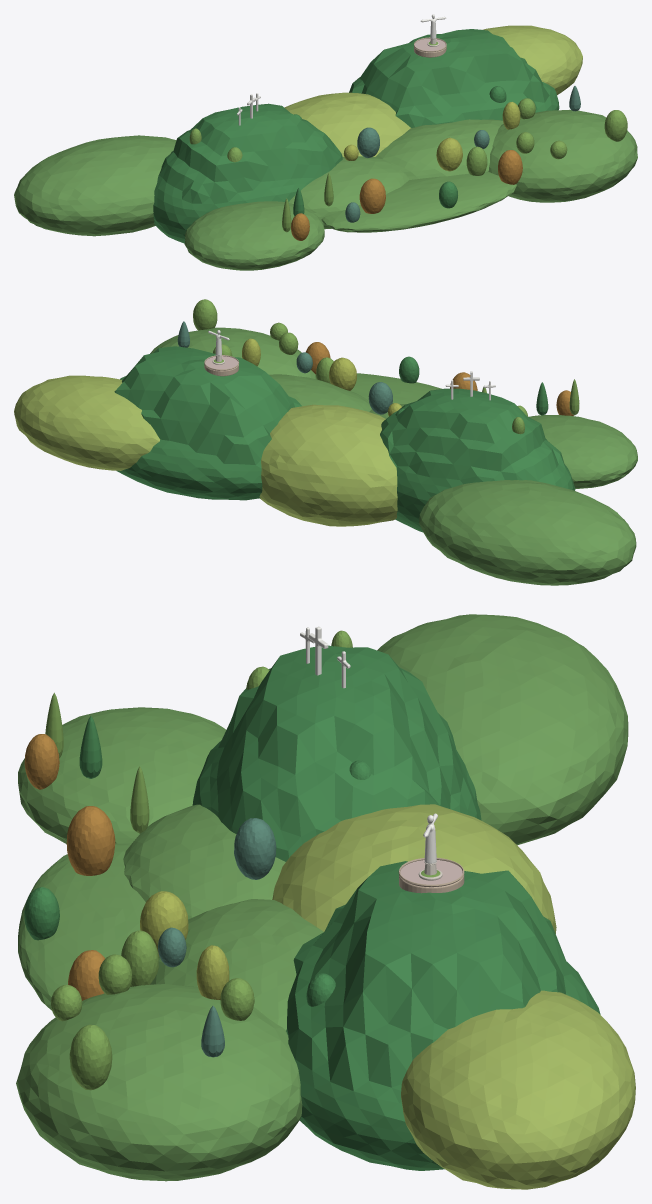
The model's file is cali_montanas.glb.
3 views of the same model, one above another, from view 1: azimuth 30°, elevation 25°; view 2: azimuth 150°, elevation 25°; view 3: azimuth 270°, elevation 25° (orthographic). The views are drawn at different scales.
Parts seen in each view (by area): view 1: Colina_00, Colina_02, Colina_09, Colina_05, Colina_06, Colina_07, Colina_01, Colina_04, Colina_08, Colina_03, Arbusto_17, Arbusto_22 (+7 smaller); view 2: Colina_02, Colina_09, Colina_00, Colina_01, Colina_08, Colina_06, Colina_05, Colina_04, Colina_07, Arbusto_20, Arbusto_35, Arbusto_28 (+1 smaller); view 3: Colina_02, Colina_05, Colina_00, Colina_09, Colina_08, Colina_06, Colina_01, Colina_03, Colina_07, Colina_04, Arbusto_17, Arbusto_35 (+15 smaller).
Part boxes in pixels (x1,y1,x2,y2): Colina_00: (153,103,342,243); Colina_02: (349,29,559,127); Colina_09: (14,135,176,236); Colina_05: (488,109,637,202); Colina_06: (184,201,324,270); Colina_07: (321,172,516,232); Colina_01: (284,92,410,156); Colina_04: (376,119,503,179); Colina_08: (482,25,582,94); Colina_03: (288,156,409,229); Arbusto_17: (359,178,385,213); Arbusto_22: (498,150,522,184); Colina_02: (114,346,301,500); Colina_09: (419,480,636,585); Colina_00: (380,388,575,532); Colina_01: (259,404,397,526); Colina_08: (14,375,160,470); Colina_06: (529,415,637,488); Colina_05: (150,327,316,379); Colina_04: (269,374,371,411); Colina_07: (350,373,441,403); Arbusto_20: (329,357,356,390); Arbusto_35: (193,299,217,330); Arbusto_28: (368,382,392,414); Colina_02: (286,861,600,1170); Colina_05: (16,984,302,1181); Colina_00: (192,645,481,861); Colina_09: (377,614,628,845); Colina_08: (401,990,635,1189); Colina_06: (18,707,226,843); Colina_01: (272,804,556,933); Colina_03: (123,804,285,919); Colina_07: (18,843,145,1010); Colina_04: (150,899,323,1030); Arbusto_17: (66,806,115,875); Arbusto_35: (69,1024,112,1090).
Size of the model in its own units: 53.42 by 14.14 by 25.37.
